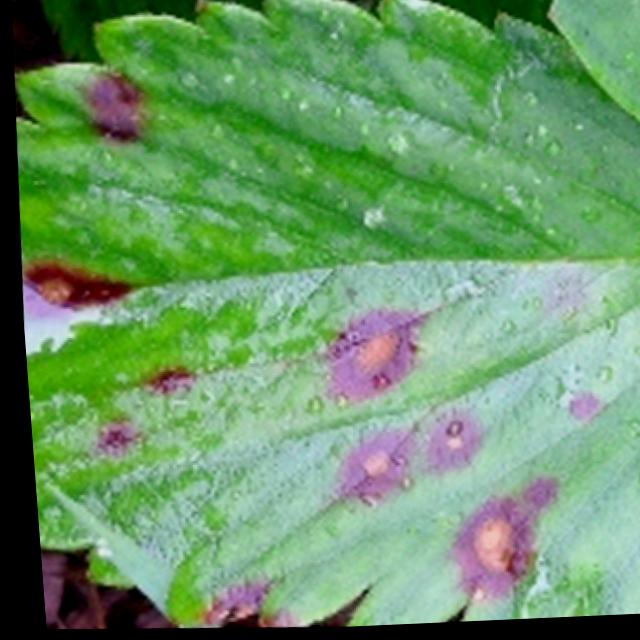Leaf Spot: (13, 0, 640, 629)
